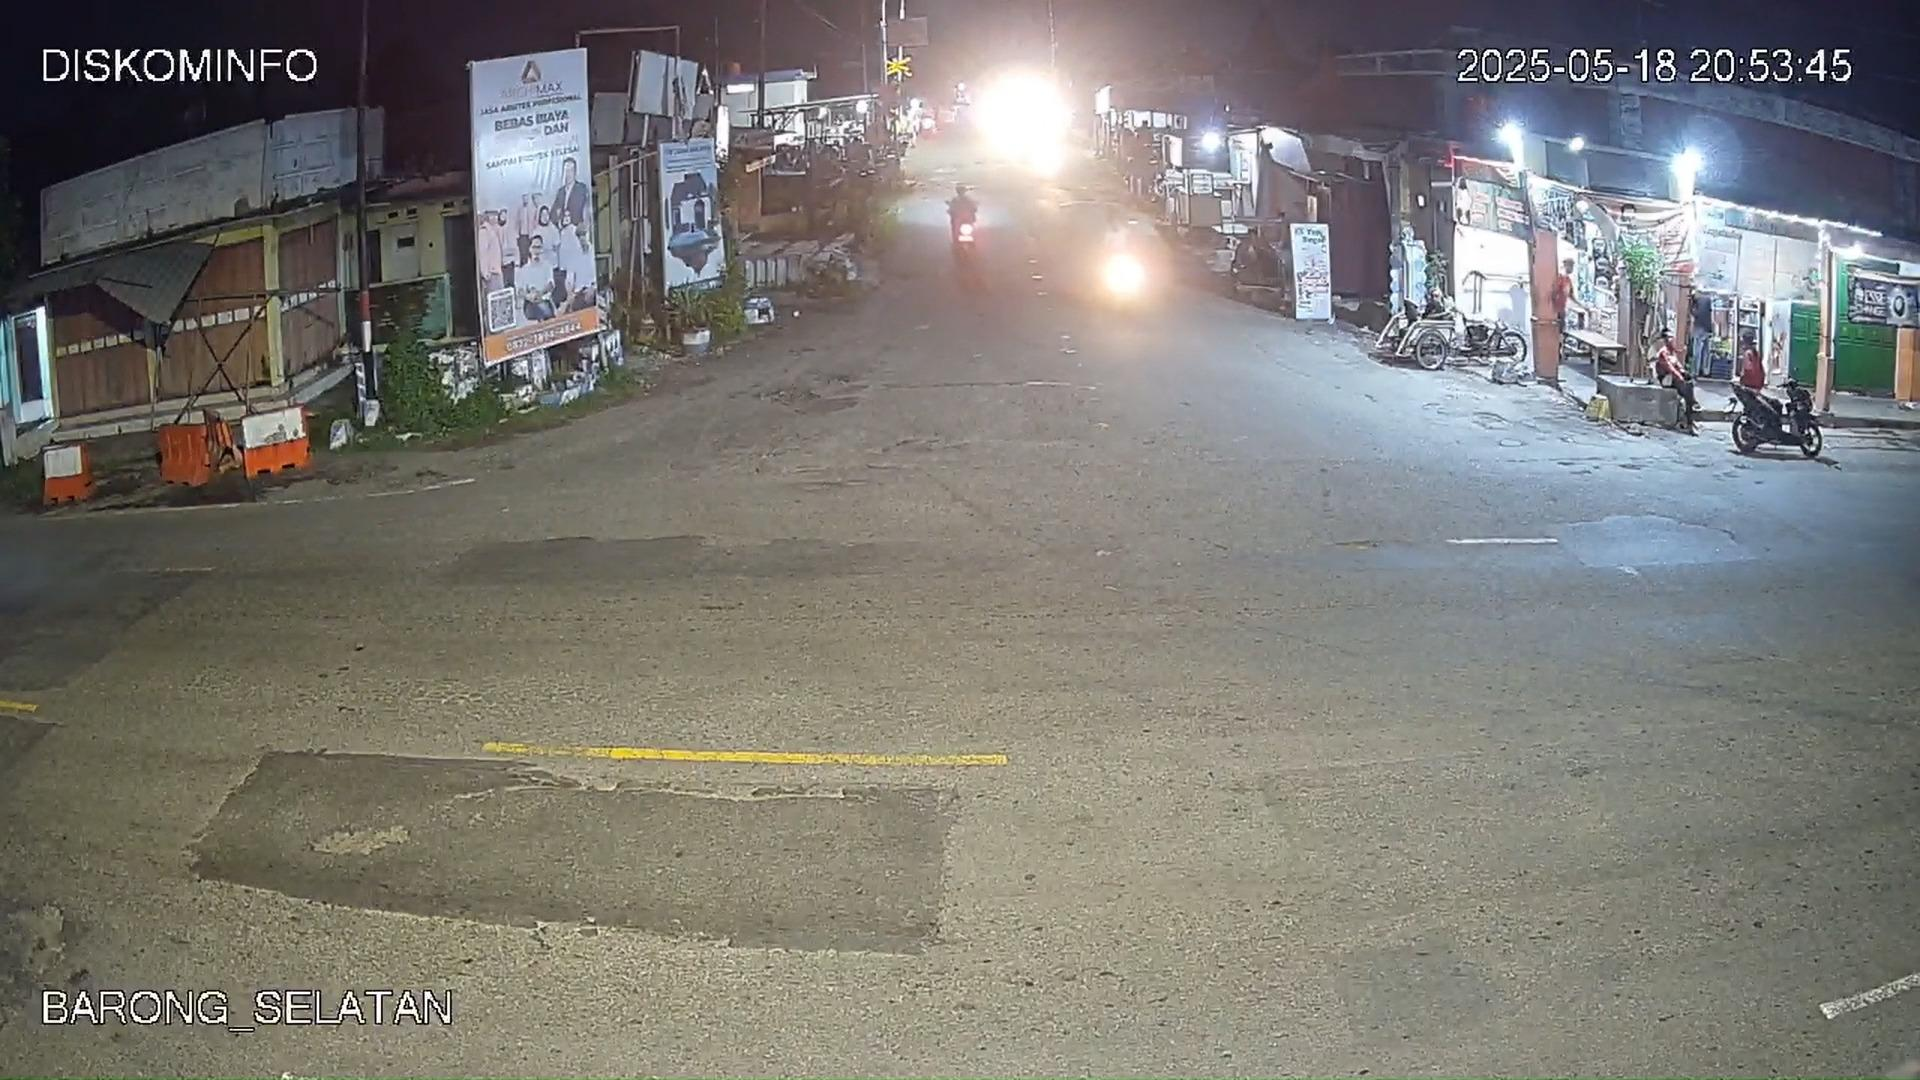Motor: (1727, 372, 1825, 459), (944, 182, 984, 287)
